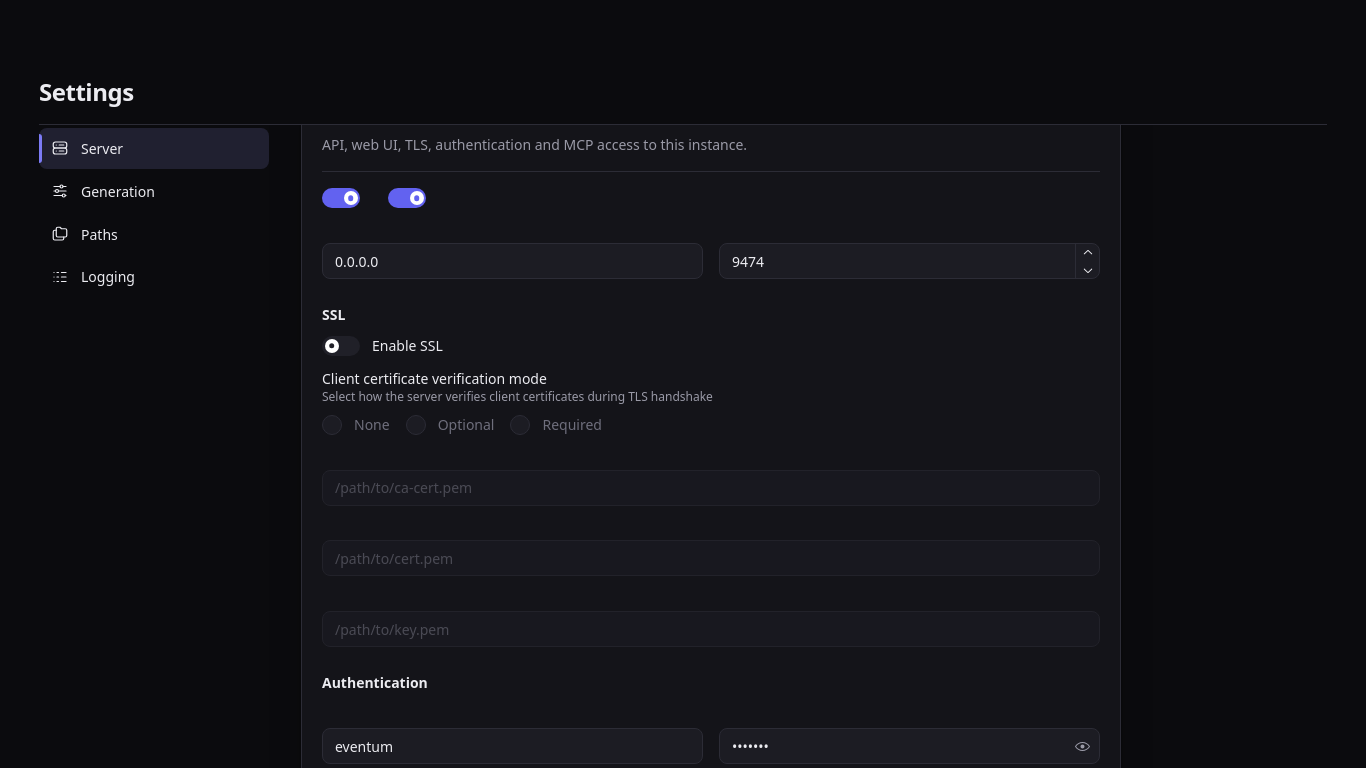
Test: SettingsPage › shows the logging settings
Click the text "Logging" at (108, 277), box [81,267,135,286]
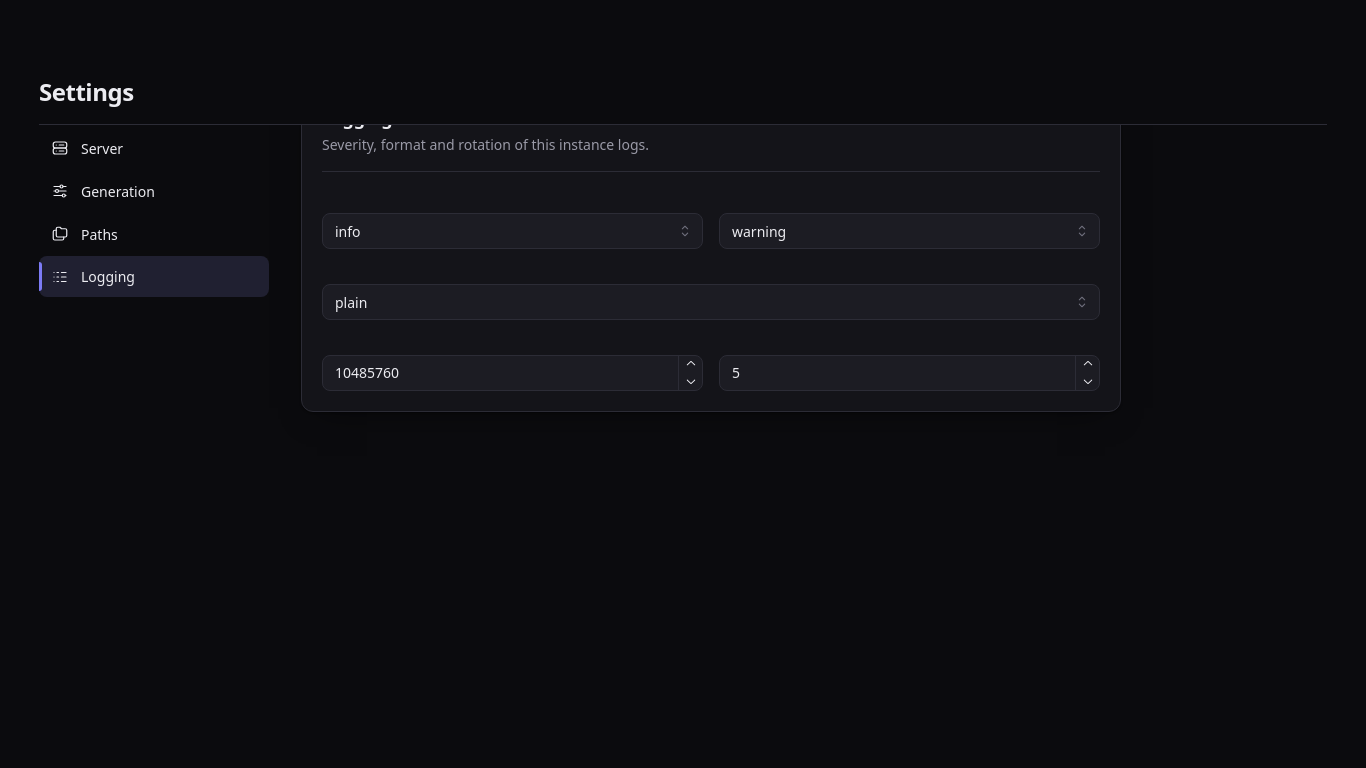
Expected: the 1st field showing "info" is shown, [322,213,703,249]
